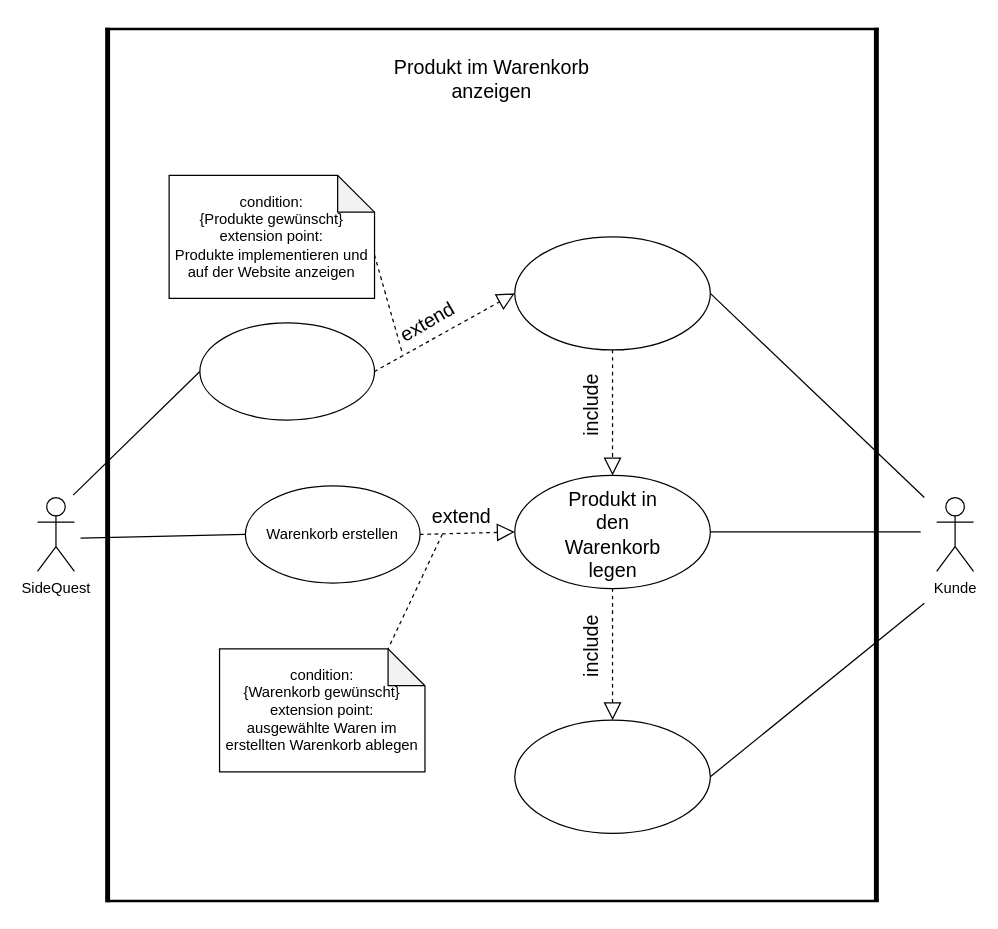
Some shapes in this 998 by 929 pixel diagram are drawn without their labels. The centre of each missing label's shape, as x and y in pixels:
Produkte anzeigen: [612,293]
Produkte implementieren: [287,371]
Warenkorb anzeigen: [612,776]
